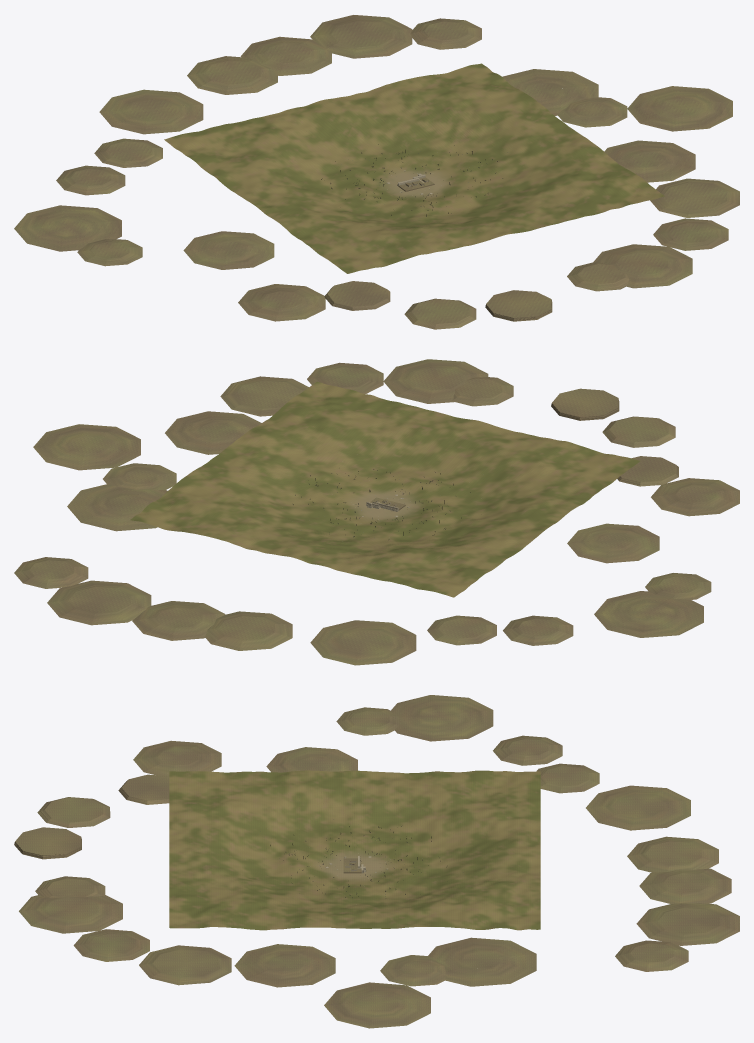
File: troya-vi-surlari-baked.glb
3 views of the same model, one above another, from view 1: azimuth 30°, elevation 25°; view 2: azimuth 150°, elevation 25°; view 3: azimuth 270°, elevation 25° (orthographic).
Parts seen in each view (by area): view 1: troya-vi-surlari-terrain, troya-vi-surlari-ground, troya-vi-surlari-near; view 2: troya-vi-surlari-terrain, troya-vi-surlari-ground, troya-vi-surlari-near; view 3: troya-vi-surlari-terrain, troya-vi-surlari-ground, troya-vi-surlari-near.
Boxes of the visible parts, <box> form: troya-vi-surlari-terrain: <box>164,63,664,273</box>; troya-vi-surlari-ground: <box>14,15,739,329</box>; troya-vi-surlari-near: <box>71,21,726,323</box>; troya-vi-surlari-terrain: <box>130,381,640,597</box>; troya-vi-surlari-ground: <box>14,359,739,665</box>; troya-vi-surlari-near: <box>29,367,716,651</box>; troya-vi-surlari-terrain: <box>169,770,540,930</box>; troya-vi-surlari-ground: <box>14,695,739,1028</box>; troya-vi-surlari-near: <box>15,739,719,977</box>.
Bounding box in the file's own units: 2153 × 60.36 × 1980.
17 materials, 14 textured.
